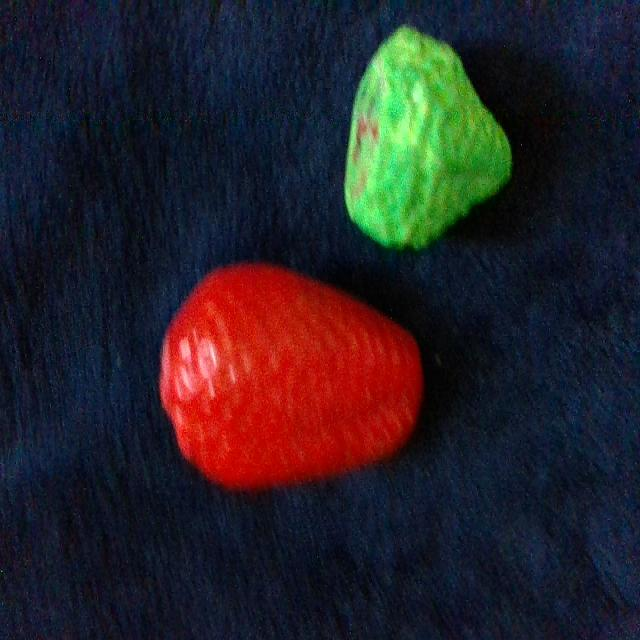grande_roja: (161, 264, 422, 487)
verde: (345, 27, 511, 247)
